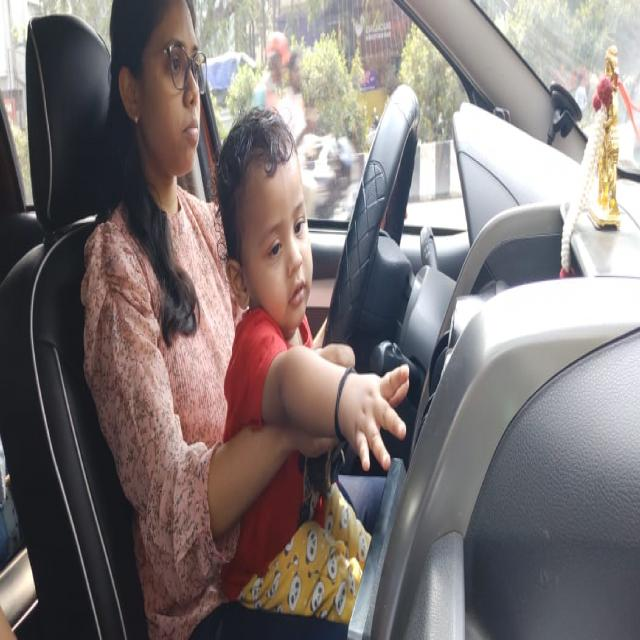child: (216, 119, 315, 328), (108, 2, 210, 178)
